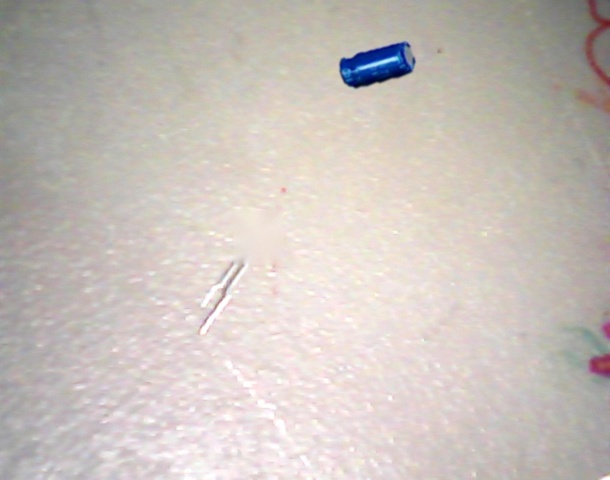capacitor: (339, 41, 416, 88)
